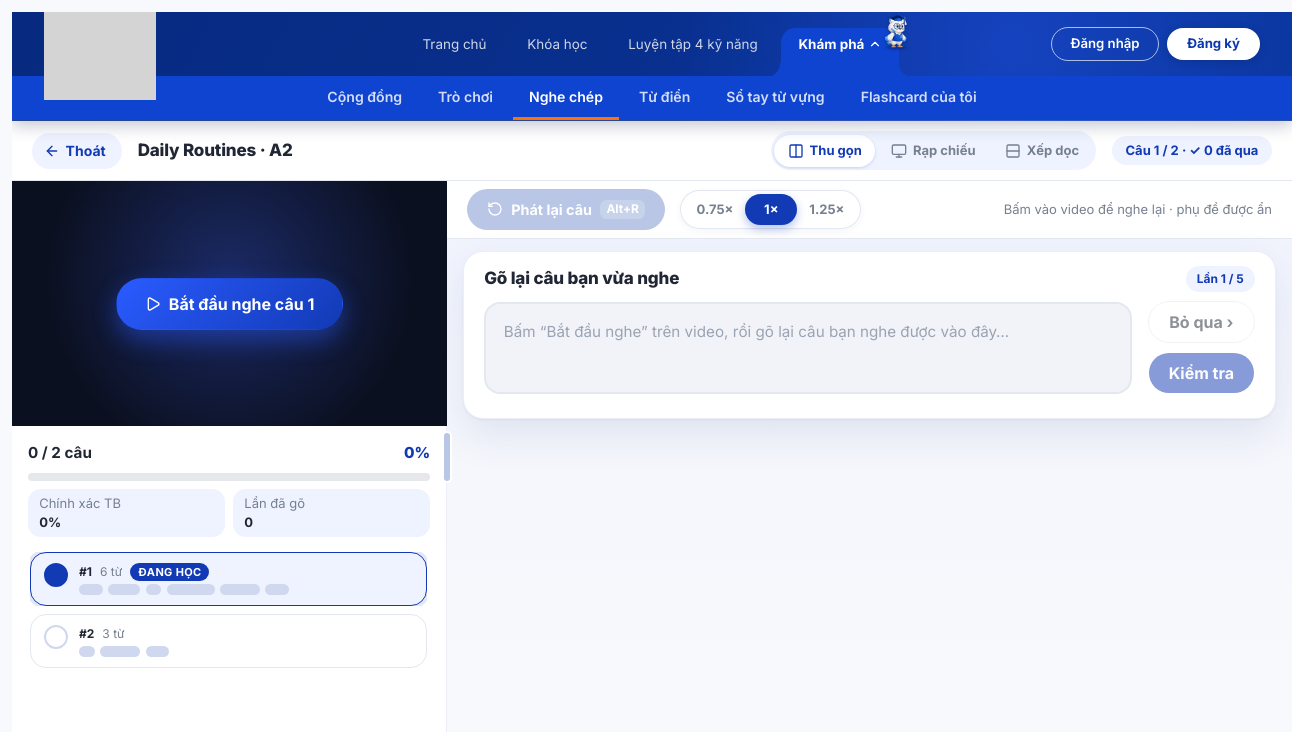
Test: VideoDictationPlayerPage › keeps the answer box open while the sentence plays
Click the button "Bắt đầu nghe câu 1": (230,304) [116,278,343,330]
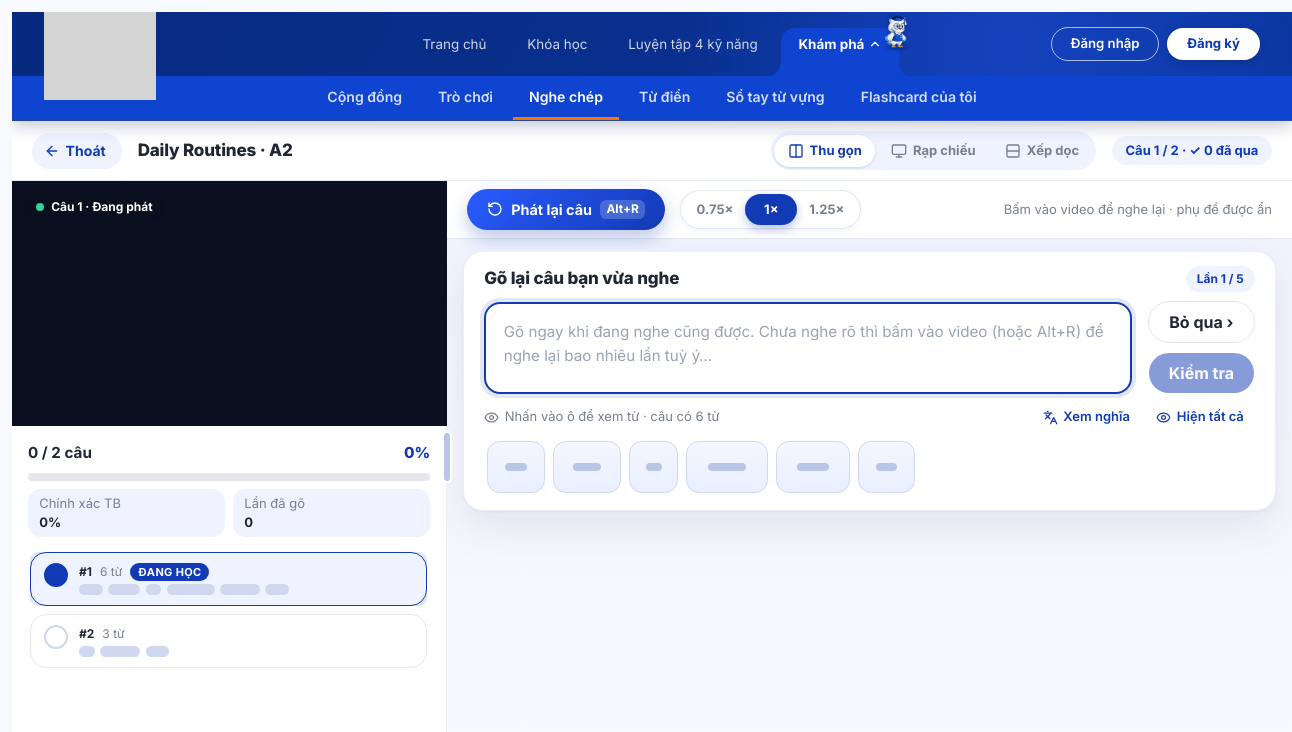
expect the text box named "Câu bạn nghe được" is enabled: met
Replace the text in the text box named "Câu bạn nghe được" with "She goes": (808,348) [484,302,1132,394]
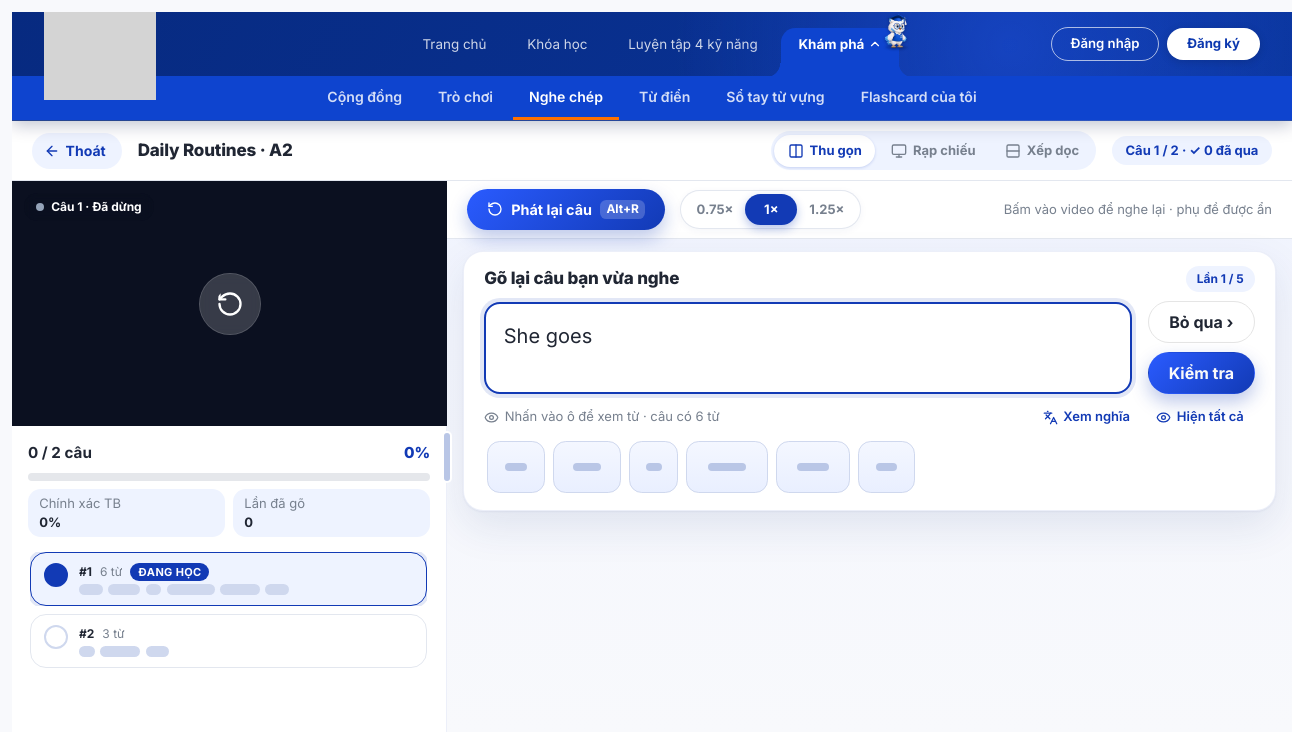
expect the button "Kiểm tra" is enabled: met, box [1148,352,1255,394]
